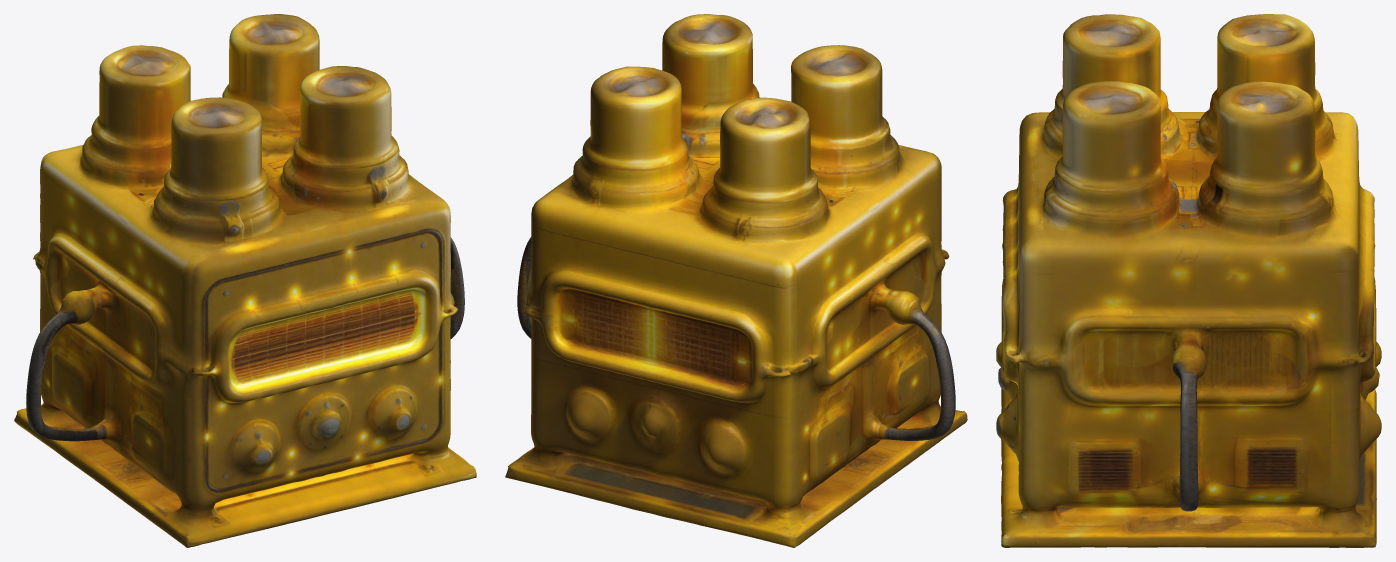
The picture shows the model from 3 angles, left to right: view 1: azimuth 30°, elevation 25°; view 2: azimuth 150°, elevation 25°; view 3: azimuth 270°, elevation 25°; orthographic projection. The views are drawn at different scales.
Size of the model in its own units: 2 by 1.67 by 1.42.
Materials: 1 (1 with a texture image).
